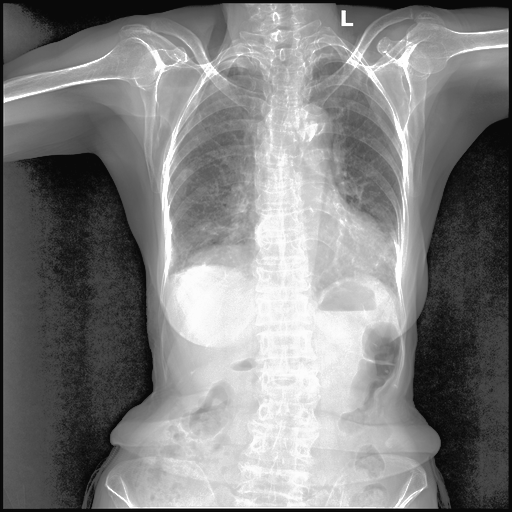Aortic enlargement: (188, 248, 252, 269)
Calcification: (162, 261, 177, 298)
Cardiomegaly: (171, 54, 267, 270), (330, 76, 400, 227)
Consolidation: (291, 103, 333, 144)
Nodule/Mass: (250, 218, 389, 280)
Pleural effusion: (162, 261, 177, 298)
Pleural thickening: (187, 245, 259, 267)
